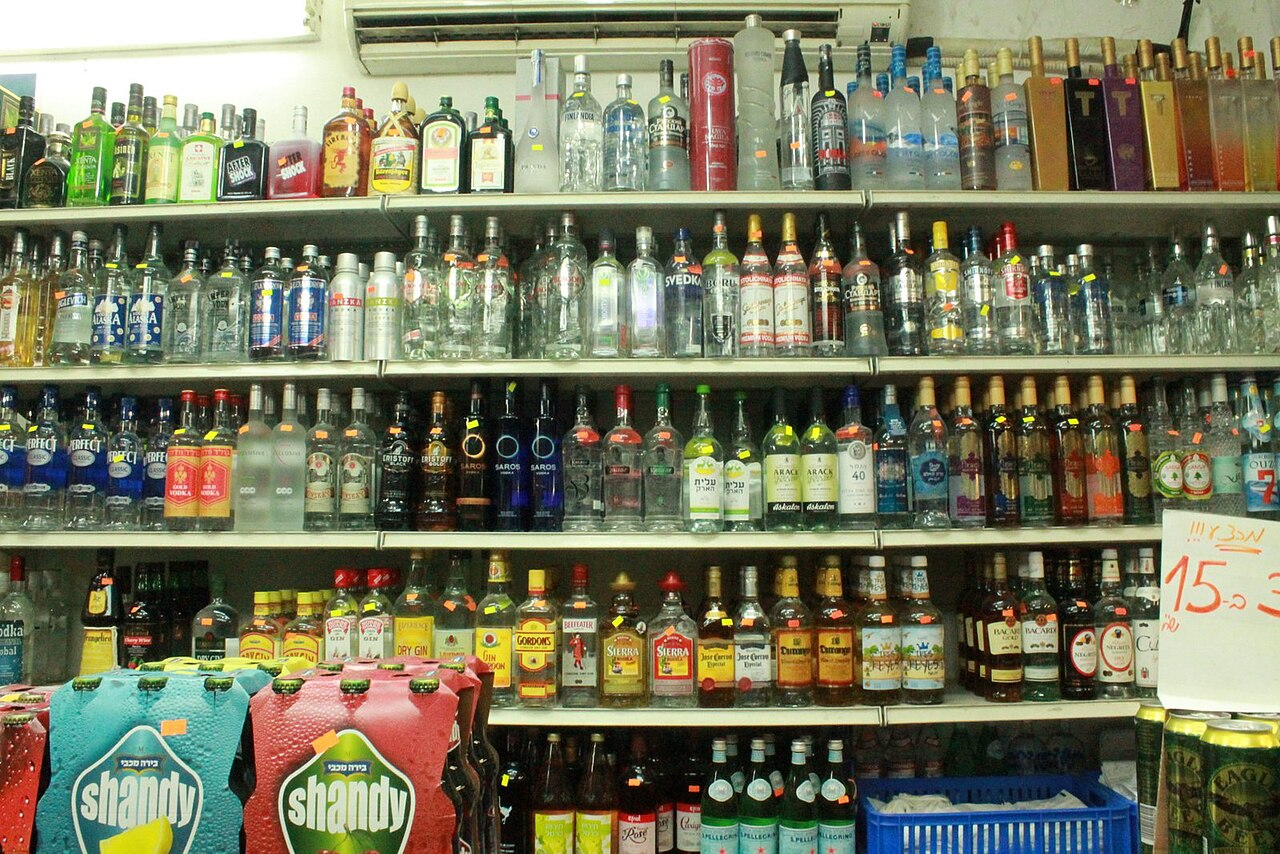unknown_bottle: (898, 555, 947, 704), (647, 571, 699, 706), (907, 376, 952, 529), (854, 554, 902, 697), (769, 559, 814, 704), (681, 386, 725, 533), (813, 554, 856, 704), (721, 389, 765, 532), (601, 385, 644, 531), (947, 379, 988, 530), (834, 383, 875, 532), (761, 388, 803, 533), (196, 388, 238, 531), (696, 566, 736, 708), (733, 565, 773, 707), (800, 387, 839, 532), (874, 385, 909, 526)
